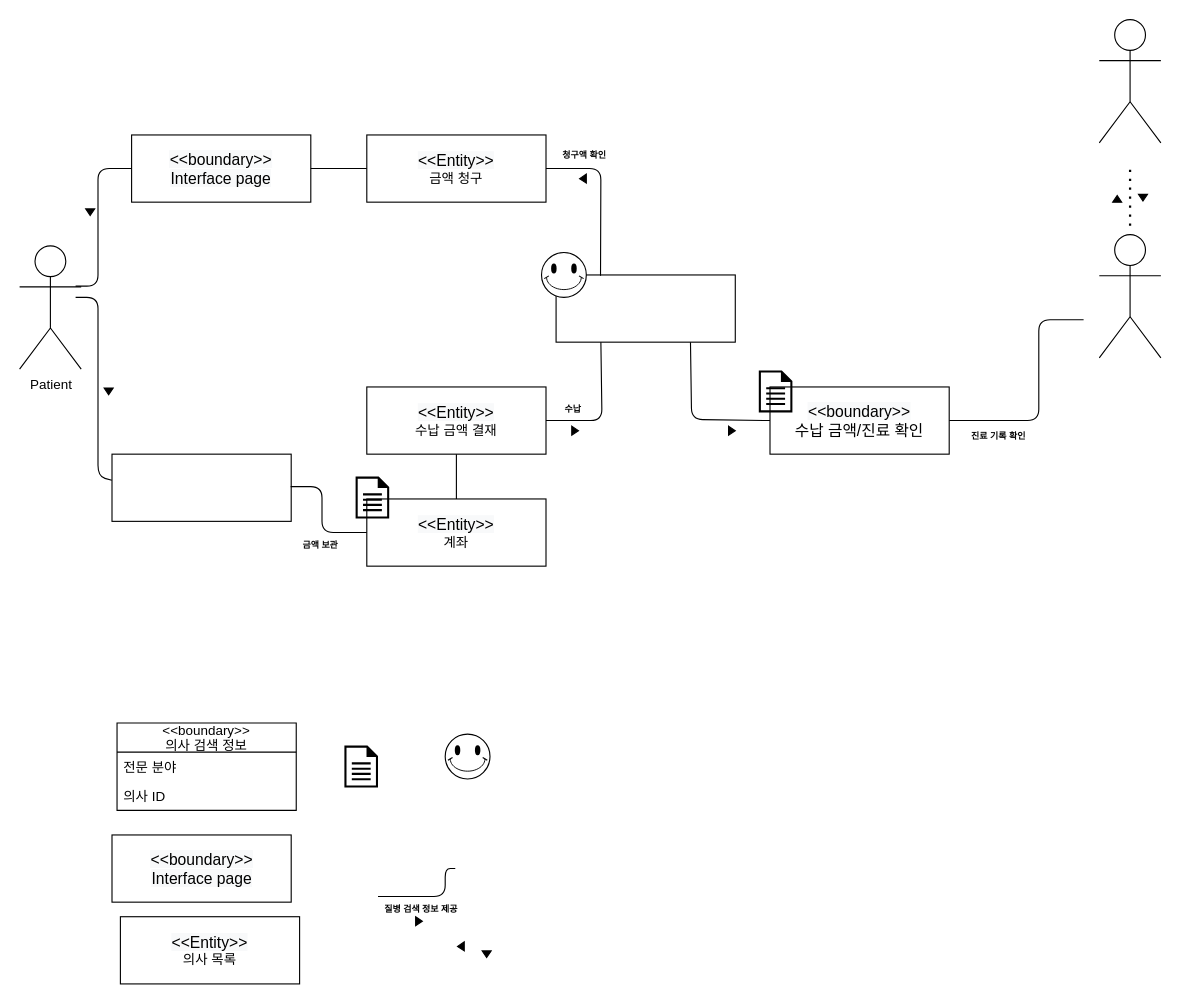
The diagram is 1183 pixels wide and 1004 high, and some of its shapes have lost their labels. Here are the shapes that lost their labels. From the top down, the box of each, then its label:
(1098, 18, 1161, 143): 의사
(555, 274, 735, 342): <<control>> Controller
(1098, 234, 1161, 358): 진료 시스템
(111, 453, 291, 521): <<boundary>> 계좌 내 금액 채우기
